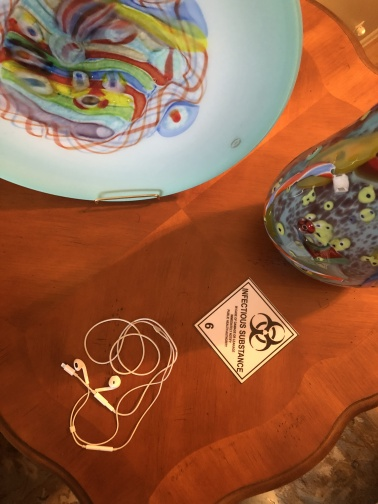InfectiousSubstance: (194, 279, 296, 384)
